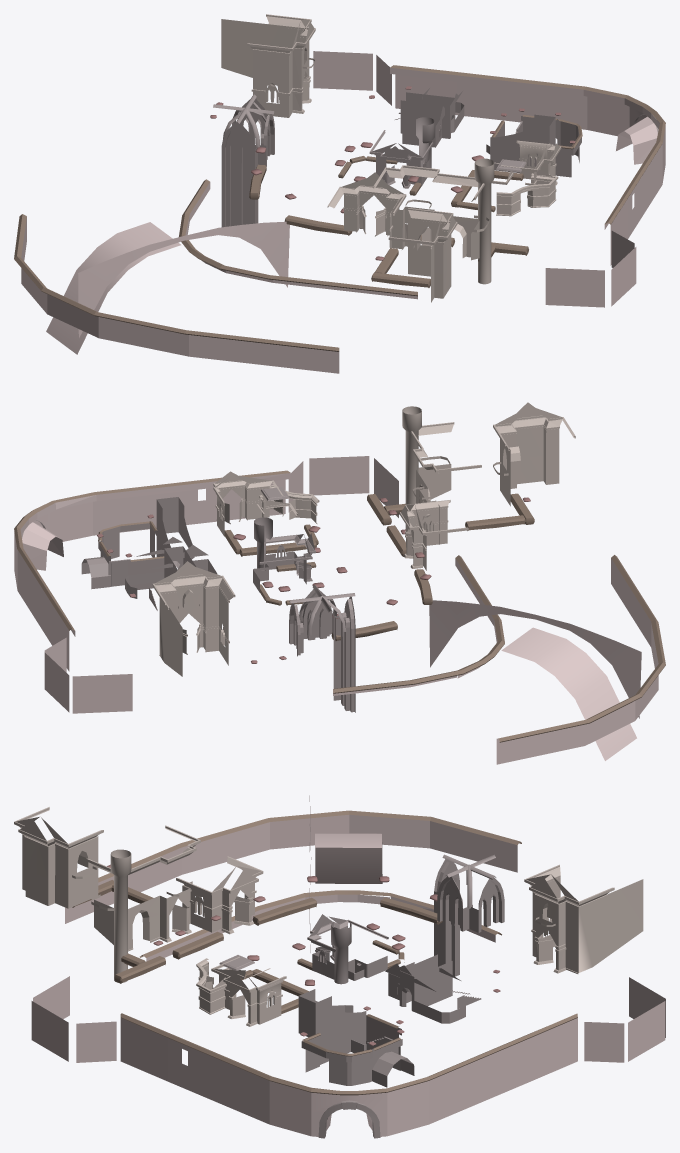
Rendered from MSH_ENV_SquareArena_Walls.FBX.
The picture shows the model from 3 angles, top to bottom: view 1: azimuth 30°, elevation 25°; view 2: azimuth 150°, elevation 25°; view 3: azimuth 270°, elevation 25°; orthographic projection. The views are drawn at different scales.
Visible parts, largest first — view 1: ENV_SquareArena_Walls; view 2: ENV_SquareArena_Walls; view 3: ENV_SquareArena_Walls.
Part boxes in pixels (bbox=[...]): ENV_SquareArena_Walls: bbox=[14, 14, 665, 373]; ENV_SquareArena_Walls: bbox=[14, 402, 665, 764]; ENV_SquareArena_Walls: bbox=[14, 795, 665, 1138].
Bounding box in the file's own units: 84.82 × 24.03 × 73.38.
